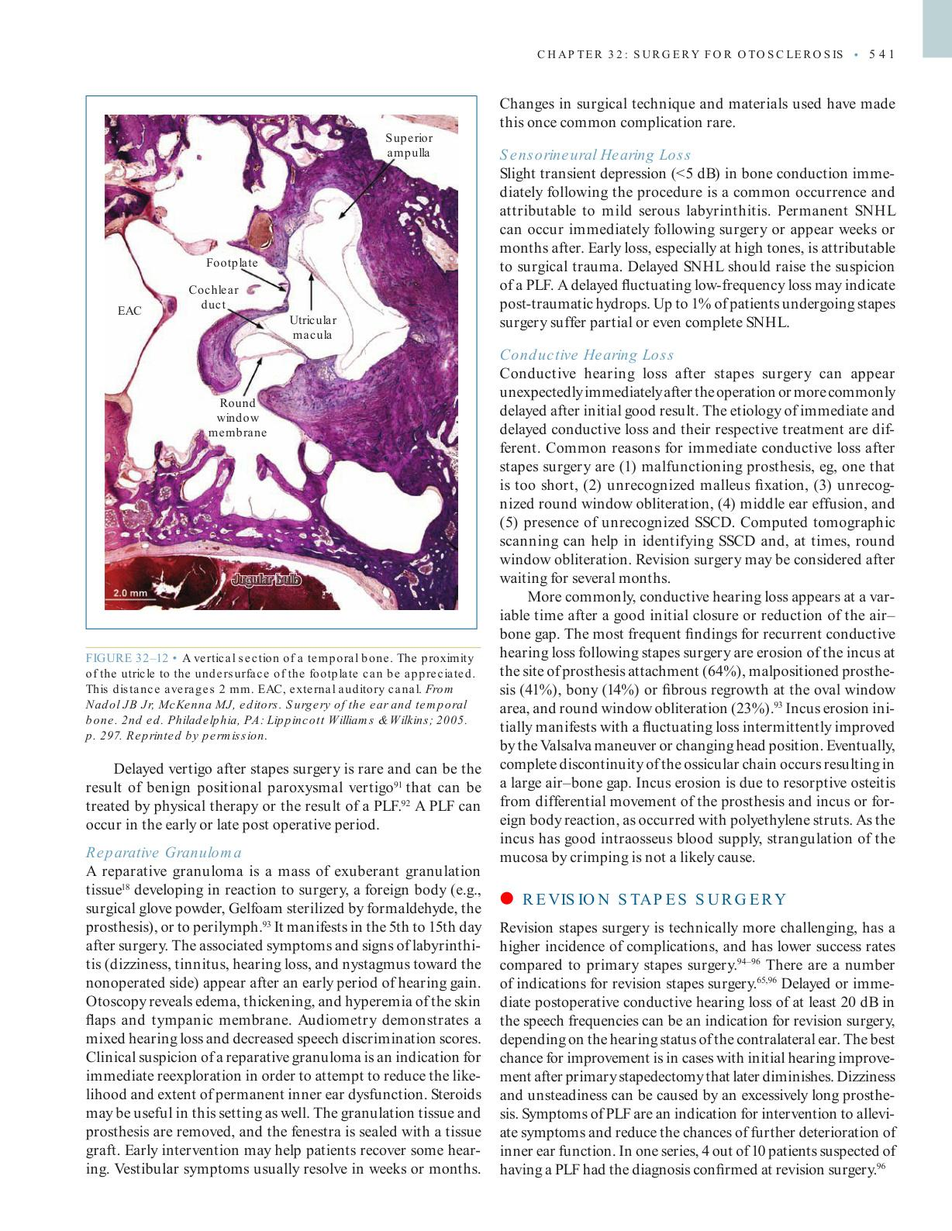caption: (81, 650, 477, 743)
header: (536, 48, 844, 60)
image: (92, 101, 470, 622)
section-heading: (521, 891, 787, 906)
sub-section-heading: (499, 346, 675, 364), (499, 148, 692, 164), (83, 845, 243, 860)
text: (498, 365, 897, 867), (83, 863, 482, 1179), (498, 919, 898, 1179), (498, 166, 899, 333), (84, 761, 483, 835), (498, 94, 897, 133)
